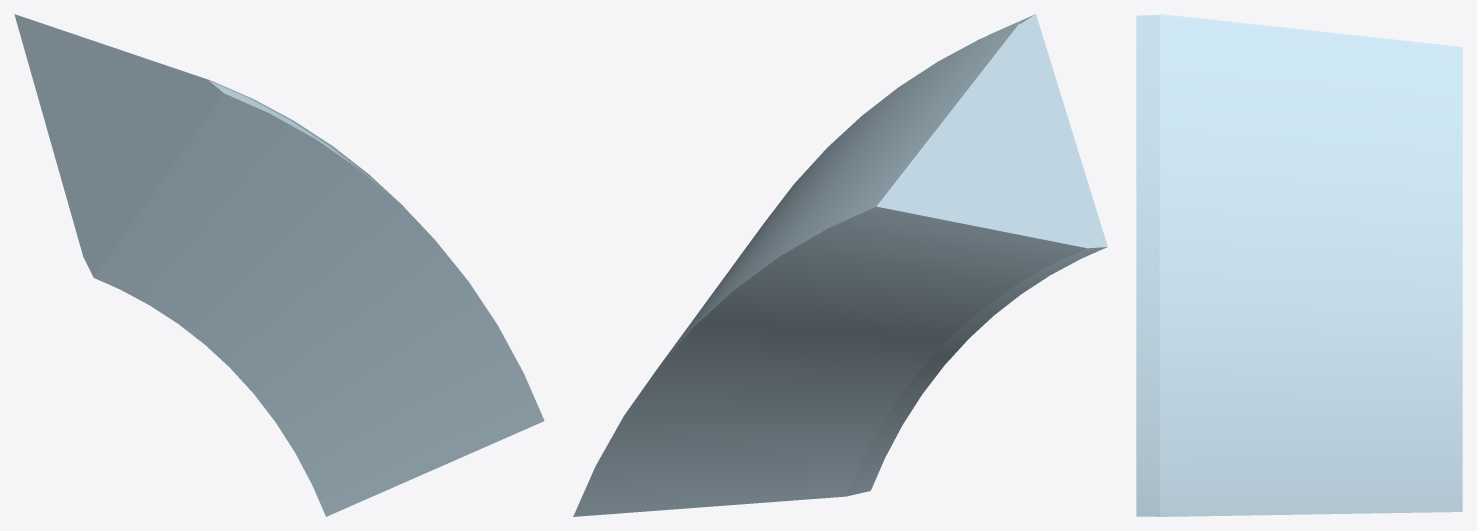
File: Sub_1_Cell_2_1.gltf
The picture shows the model from 3 angles, left to right: view 1: azimuth 30°, elevation 25°; view 2: azimuth 150°, elevation 25°; view 3: azimuth 270°, elevation 25°; orthographic projection. The views are drawn at different scales.
Parts seen in each view (by area): view 1: Sub_1_Cell_2_1; view 2: Sub_1_Cell_2_1; view 3: Sub_1_Cell_2_1.
Boxes of the visible parts, x1,y1,x2,y2 form: Sub_1_Cell_2_1: (14, 14, 544, 516); Sub_1_Cell_2_1: (573, 14, 1107, 516); Sub_1_Cell_2_1: (1136, 14, 1462, 516).
Size of the model in its own units: 0.0794 by 0.086 by 0.0594.
